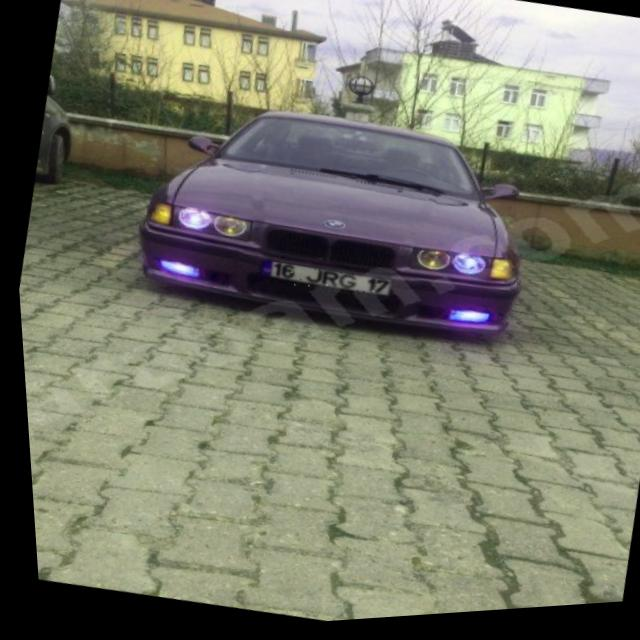license_plate: (254, 257, 387, 311)
